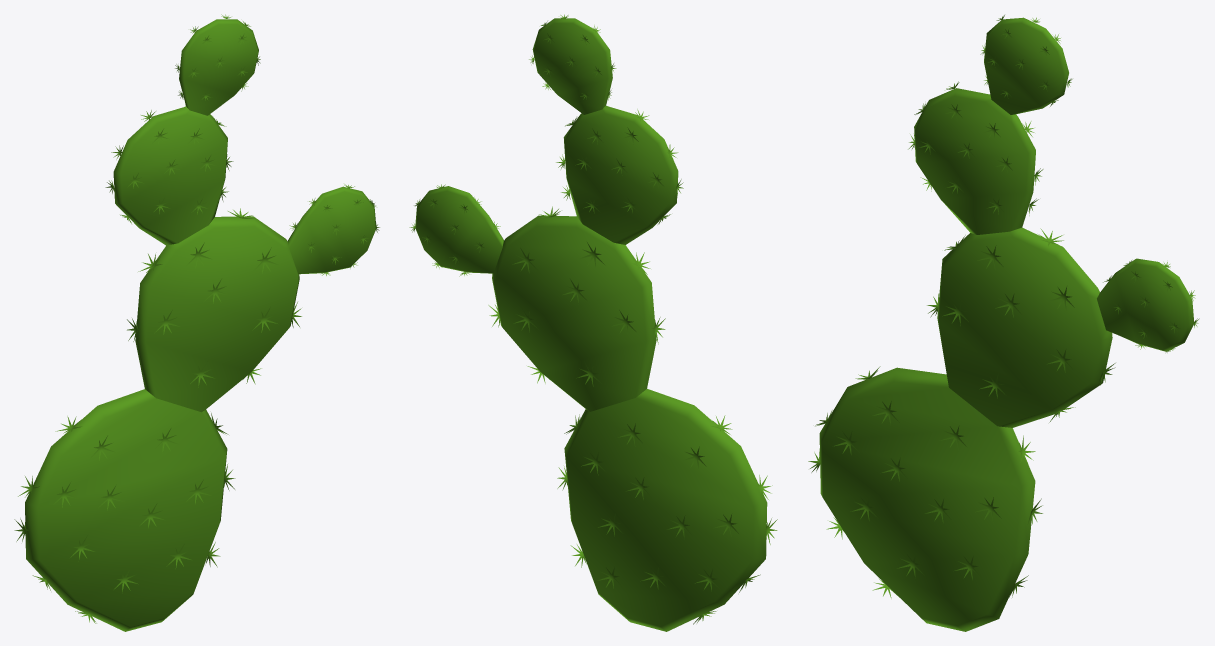
The model's file is cactus1.fbx.
The picture shows the model from 3 angles, left to right: view 1: azimuth 30°, elevation 25°; view 2: azimuth 150°, elevation 25°; view 3: azimuth 330°, elevation 25°; orthographic projection. The views are drawn at different scales.
Parts seen in each view (by area): view 1: Cactus1; view 2: Cactus1; view 3: Cactus1.
Part boxes in pixels (<box>): Cactus1: <box>14,14,379,631</box>; Cactus1: <box>409,14,777,631</box>; Cactus1: <box>808,15,1199,631</box>.
Size of the model in its own units: 92.78 by 146 by 7.21.
